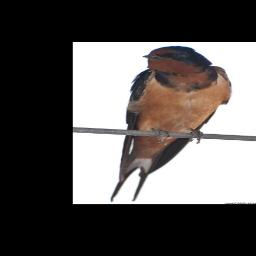Swallow: (108, 45, 233, 203)
